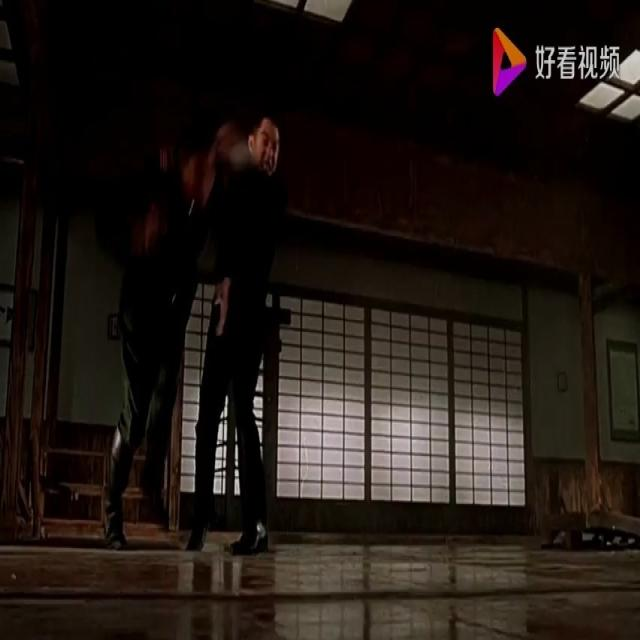fight: (97, 106, 278, 562)
